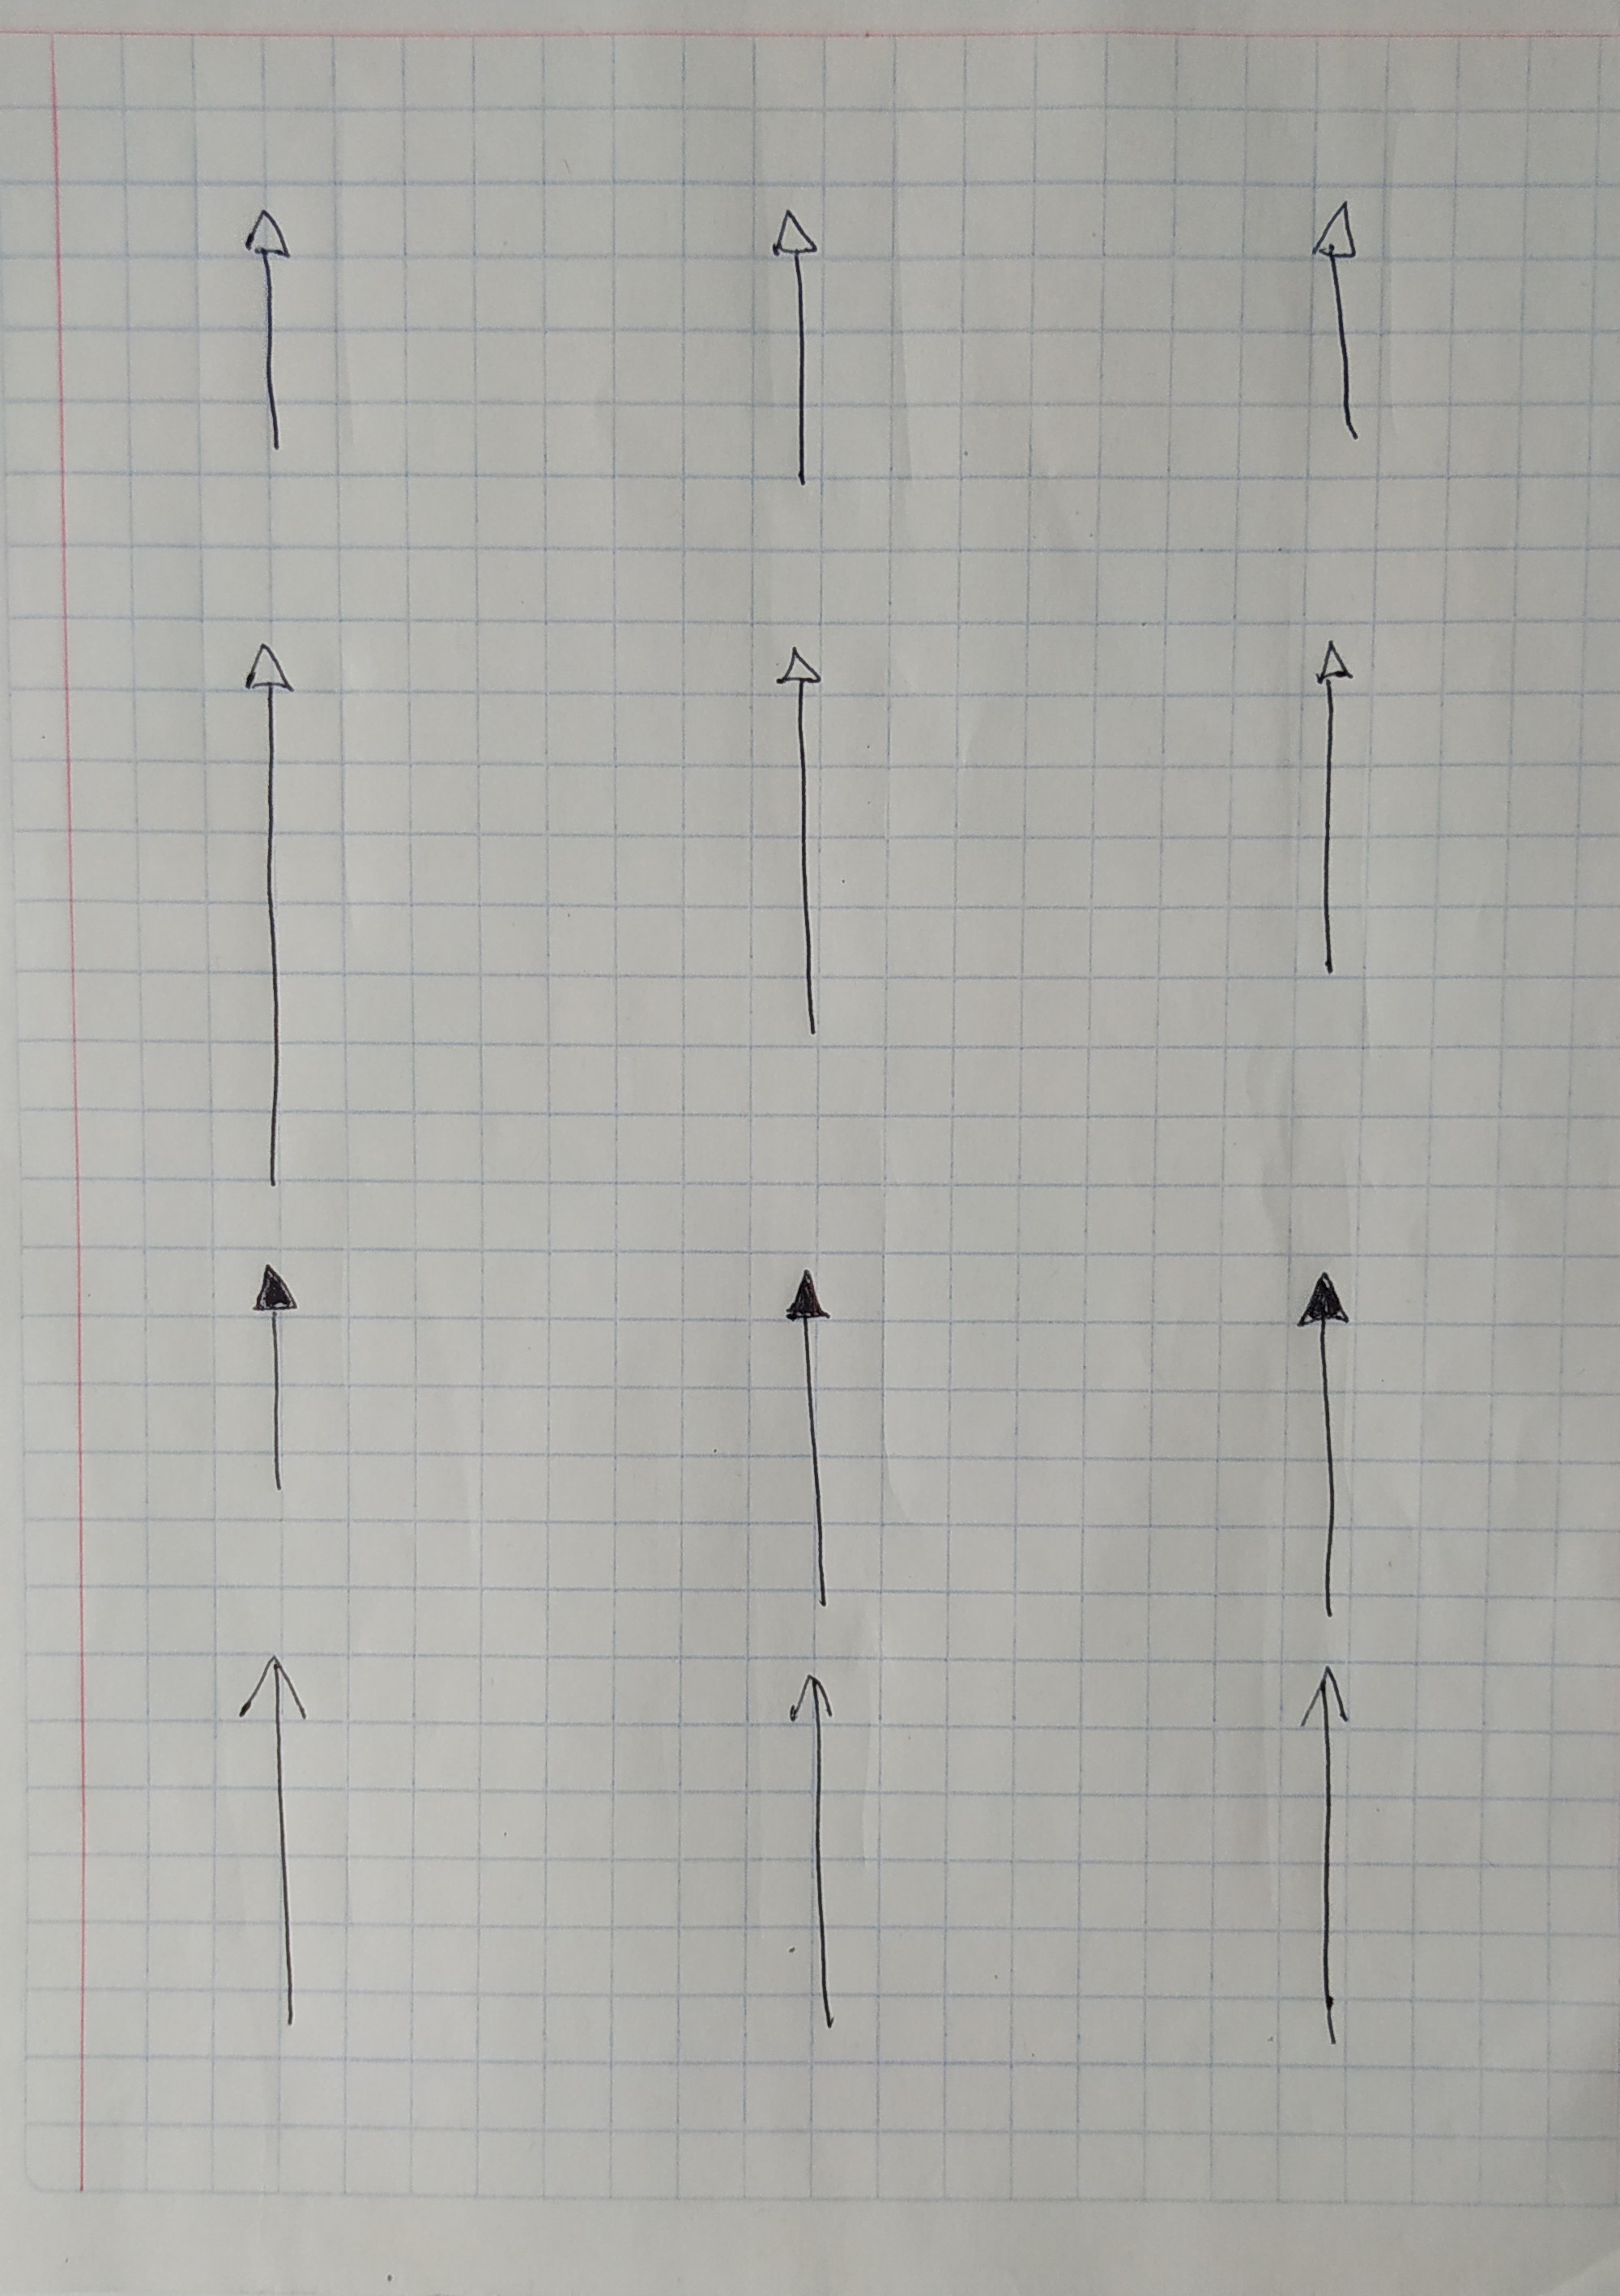arrow_line_up: (237, 636, 303, 1195), (233, 1653, 319, 2040), (782, 1672, 852, 2038), (775, 634, 836, 1041), (1296, 1662, 1359, 2054), (784, 1267, 845, 1614), (1294, 1267, 1354, 1621), (768, 209, 822, 501), (238, 203, 296, 470), (1313, 196, 1373, 452), (1311, 634, 1354, 983), (249, 1264, 300, 1499)
